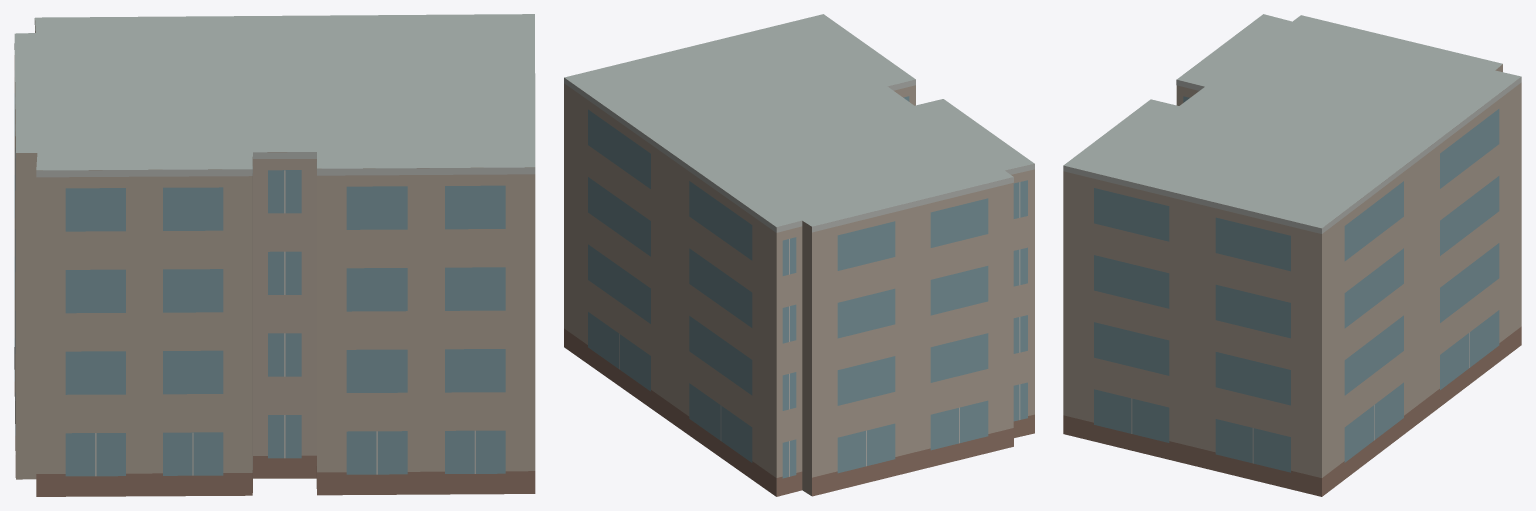
The model's file is survey-upis-32670090.glb.
3 renders of one model, left to right at view 1: azimuth 30°, elevation 25°; view 2: azimuth 150°, elevation 25°; view 3: azimuth 270°, elevation 25°, orthographic. The views are drawn at different scales.
Visible parts, largest first — view 1: survey-upis-32670090.tmp; view 2: survey-upis-32670090.tmp; view 3: survey-upis-32670090.tmp.
Part boxes in pixels (x1,y1,x2,y2): survey-upis-32670090.tmp: [14, 14, 535, 496]; survey-upis-32670090.tmp: [564, 14, 1034, 496]; survey-upis-32670090.tmp: [1063, 14, 1521, 496].
Bounding box in the file's own units: 19.71 × 11.5 × 17.8.
